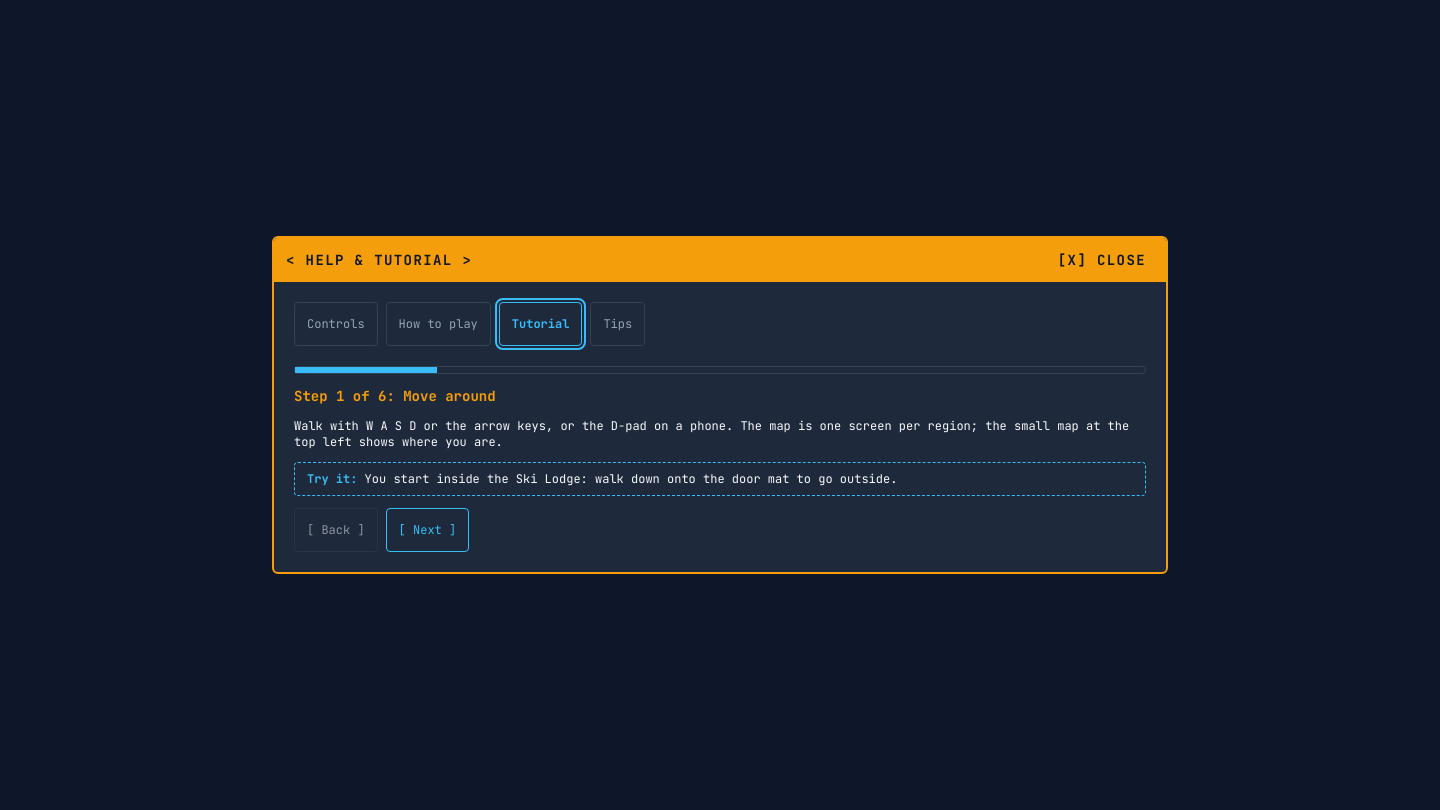
Help › the tutorial steps through six cards with Back and Next, a progress meter and a Try it line
The image size is (1440, 810).
Expected: the button "[ Back ]" is disabled, [294,508,378,552]
Click the button "[ Next ]".
click(427, 530)  # box [386,508,469,552]
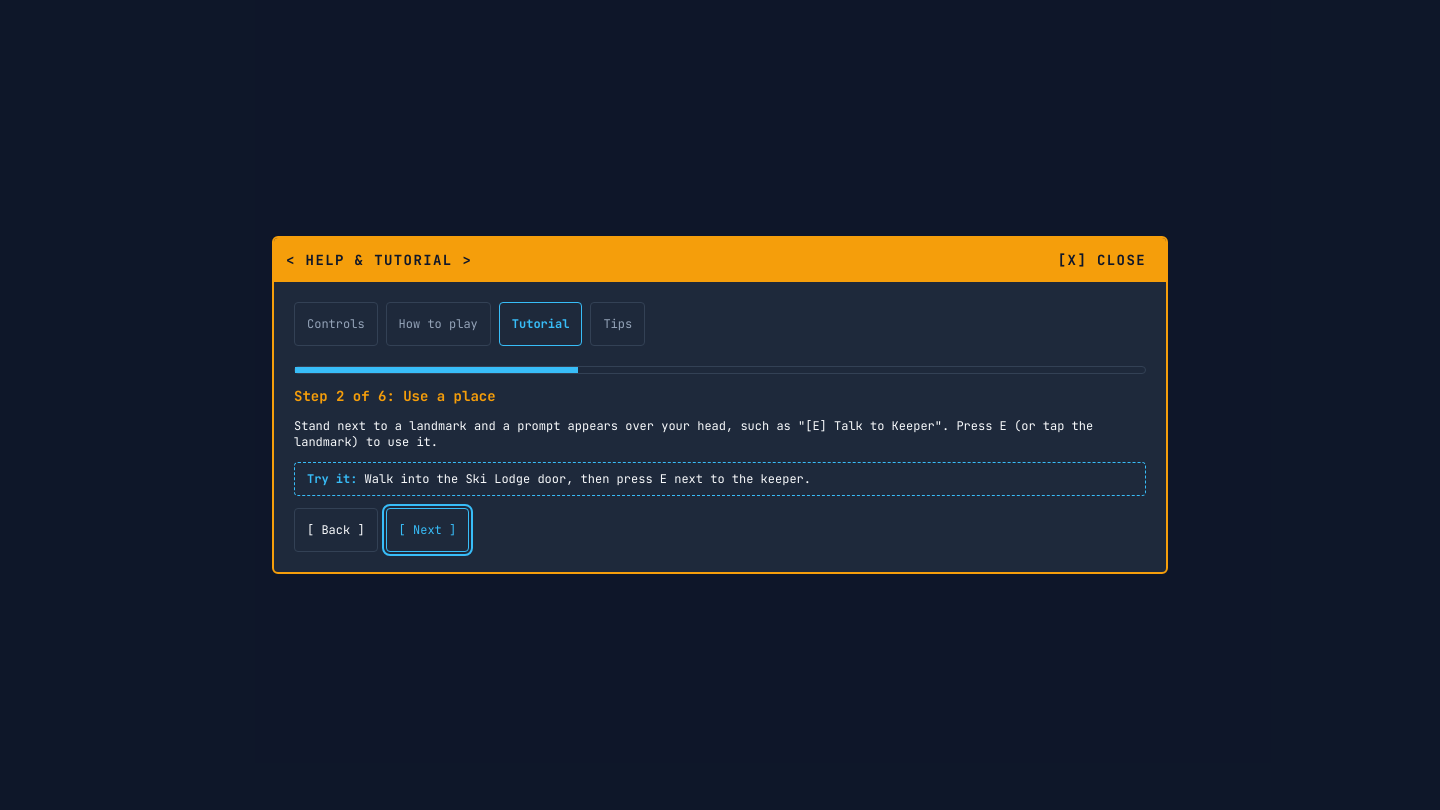
Expected: the text "Try it:" is shown, [307,471,365,487]
Click the button "[ Next ]".
click(427, 530)  # box [386,508,469,552]
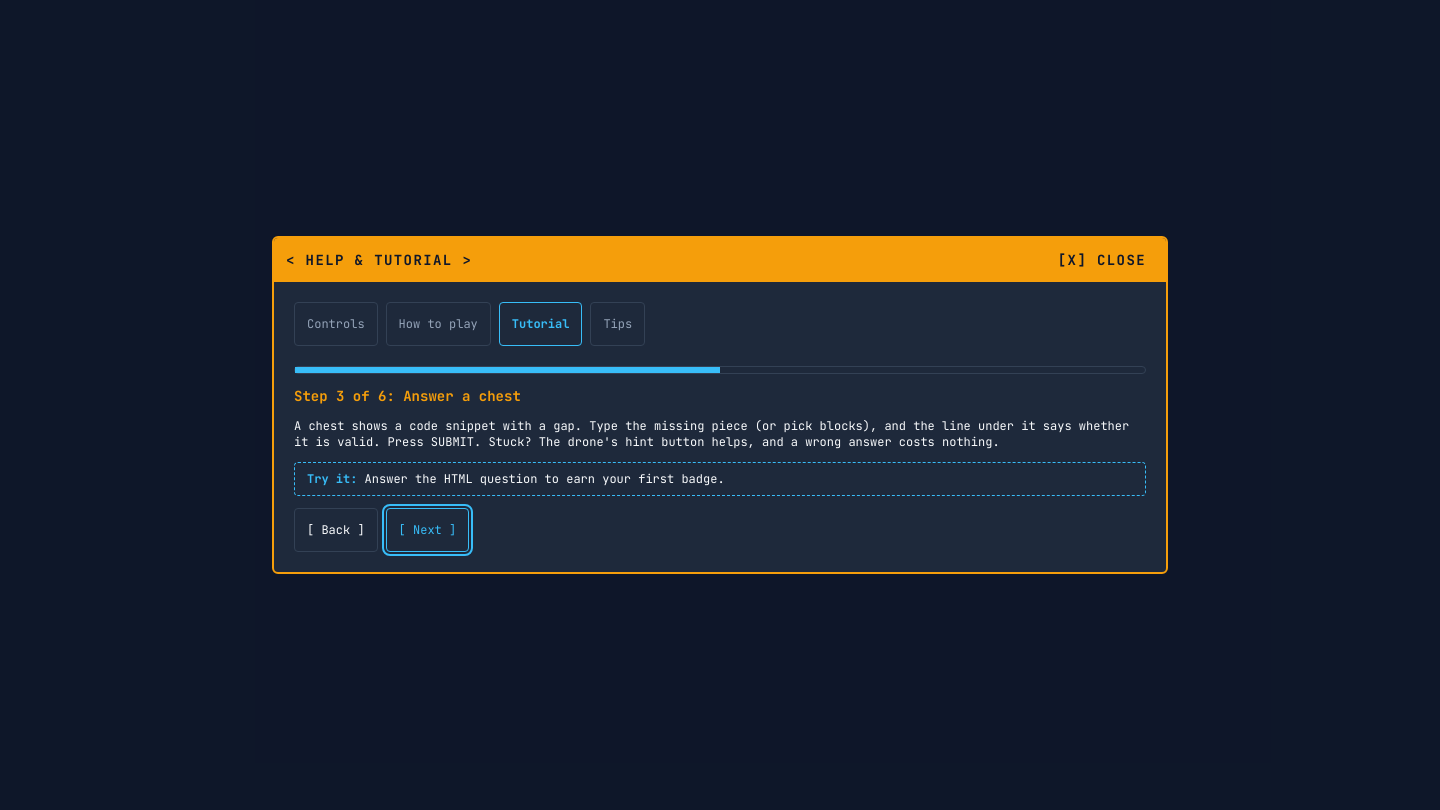
Click the button "[ Next ]".
click(427, 530)  # box [386,508,469,552]
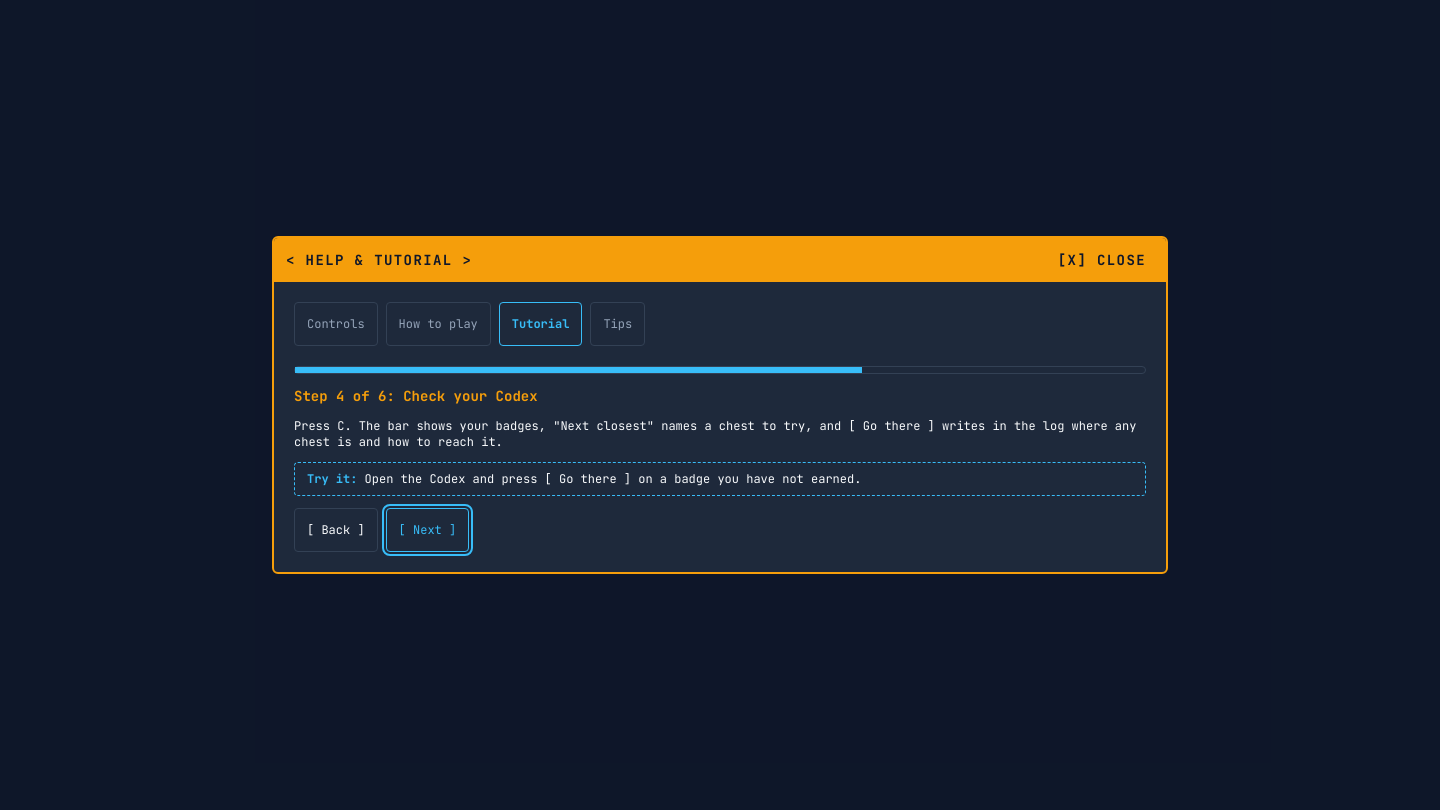
Click the button "[ Next ]".
click(427, 530)  # box [386,508,469,552]
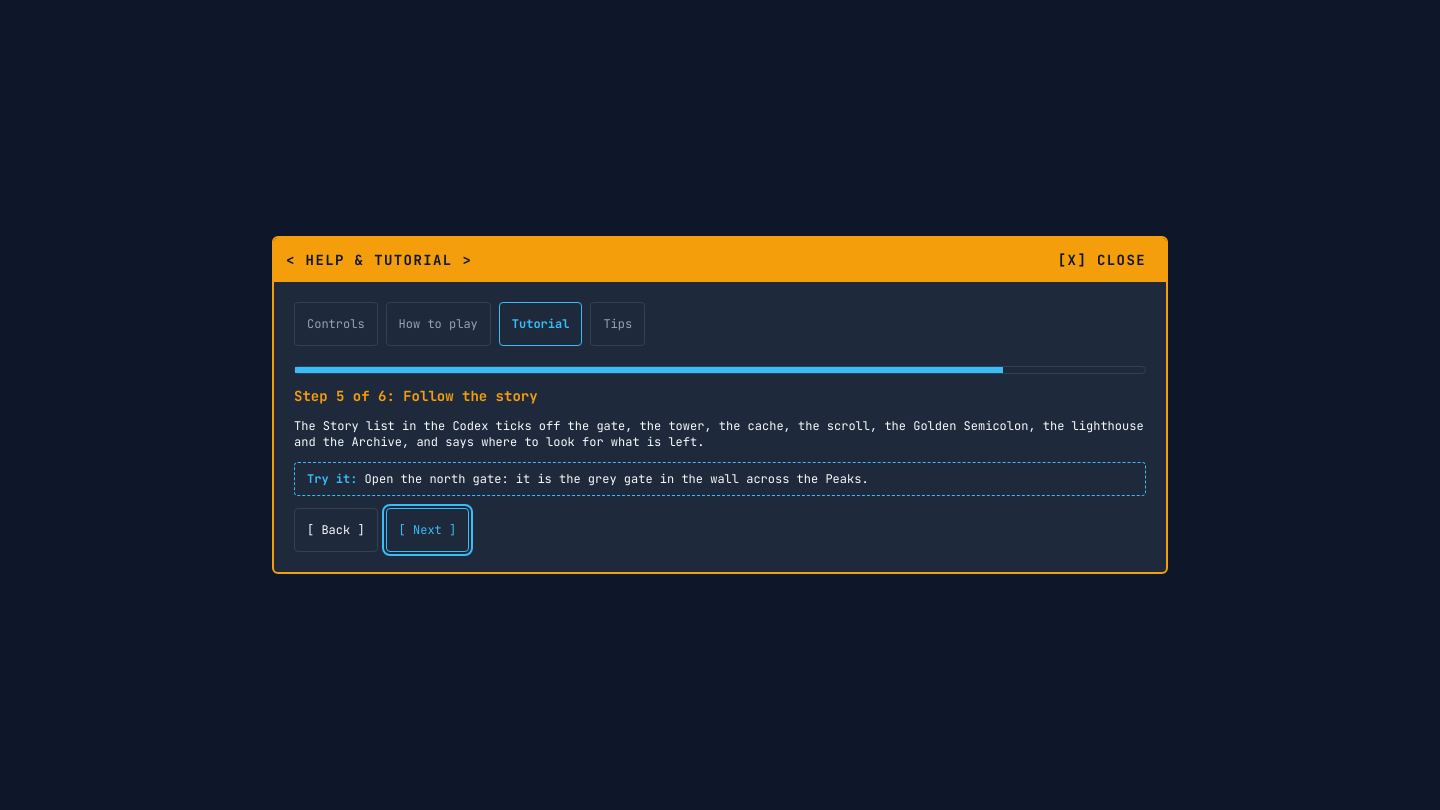
Click the button "[ Next ]".
click(427, 530)  # box [386,508,469,552]
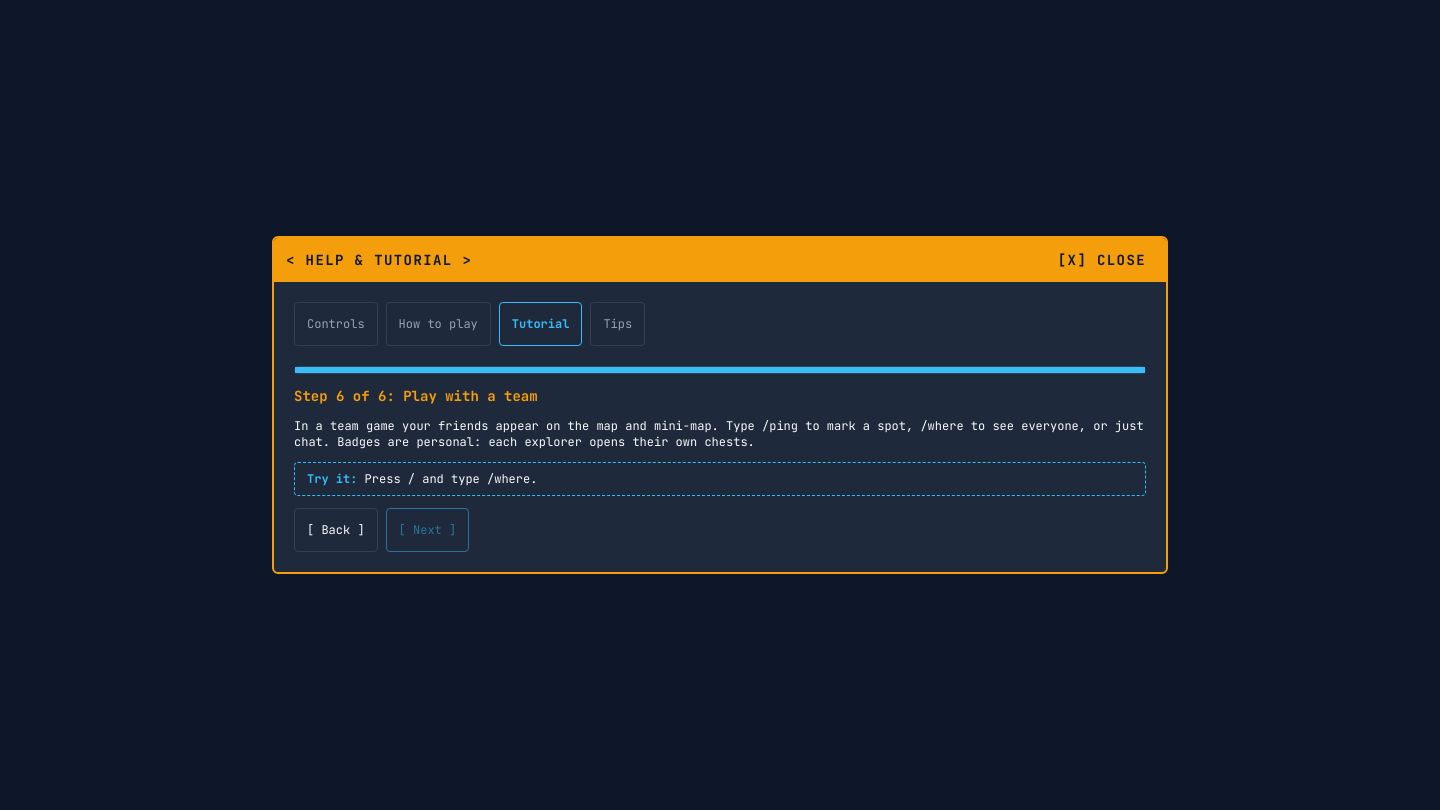
Expected: the heading "Step 6 of 6: Play with a team" is shown, [294,387,538,405]
Expected: the button "[ Next ]" is disabled, [386,508,469,552]
Click the button "[ Back ]".
click(336, 530)  # box [294,508,378,552]
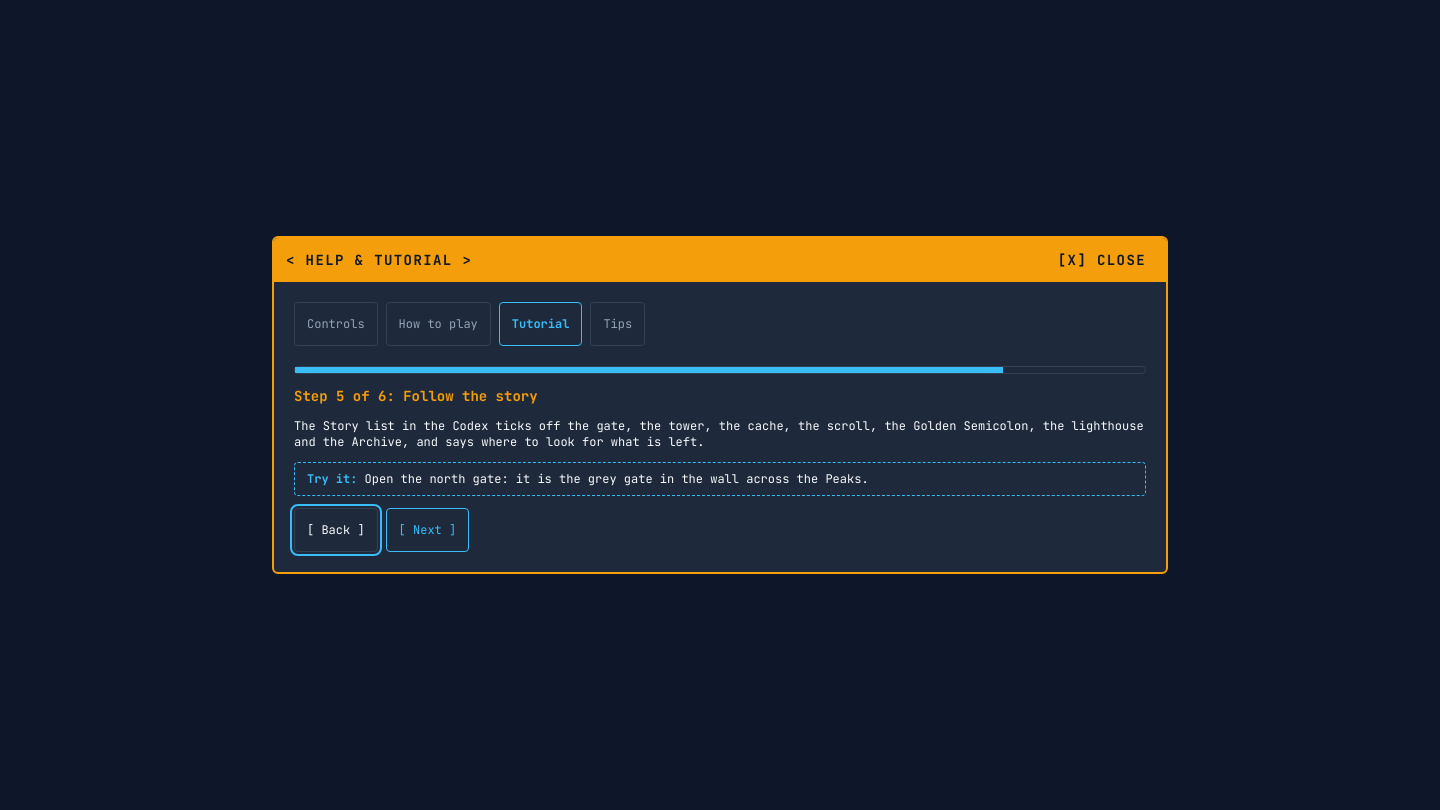
Expected: the heading "Step 5 of 6: Follow the story" is shown, [294,387,538,405]
